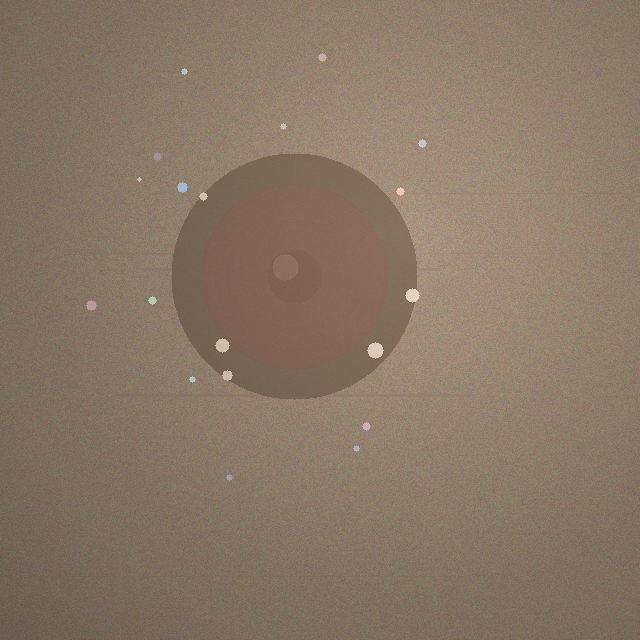overburn: (171, 153, 417, 399)
